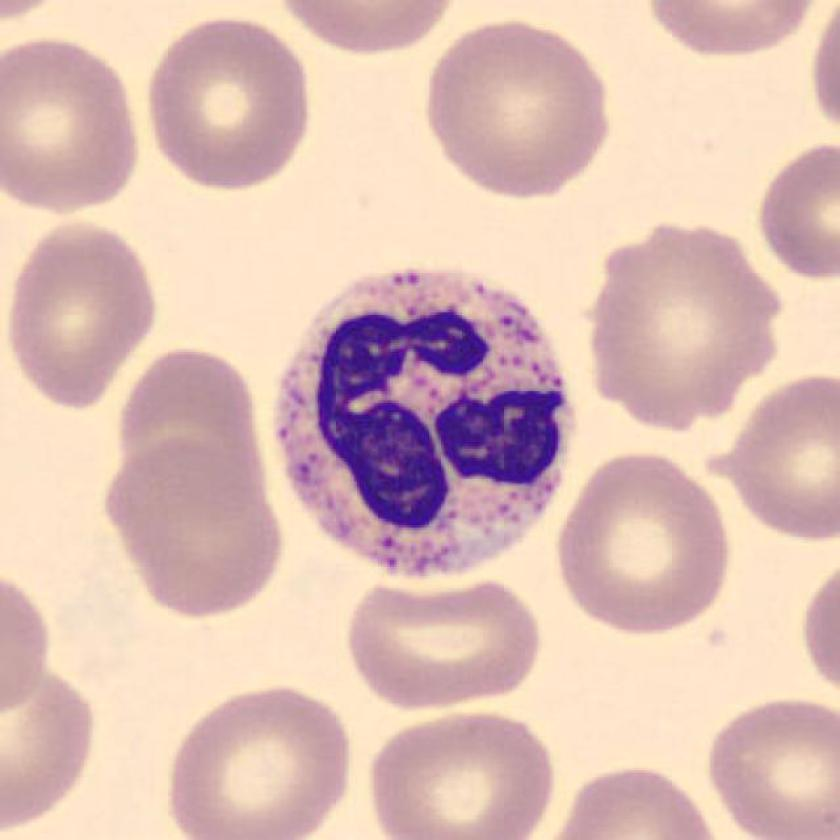neutrophil: (274, 269, 576, 580)
